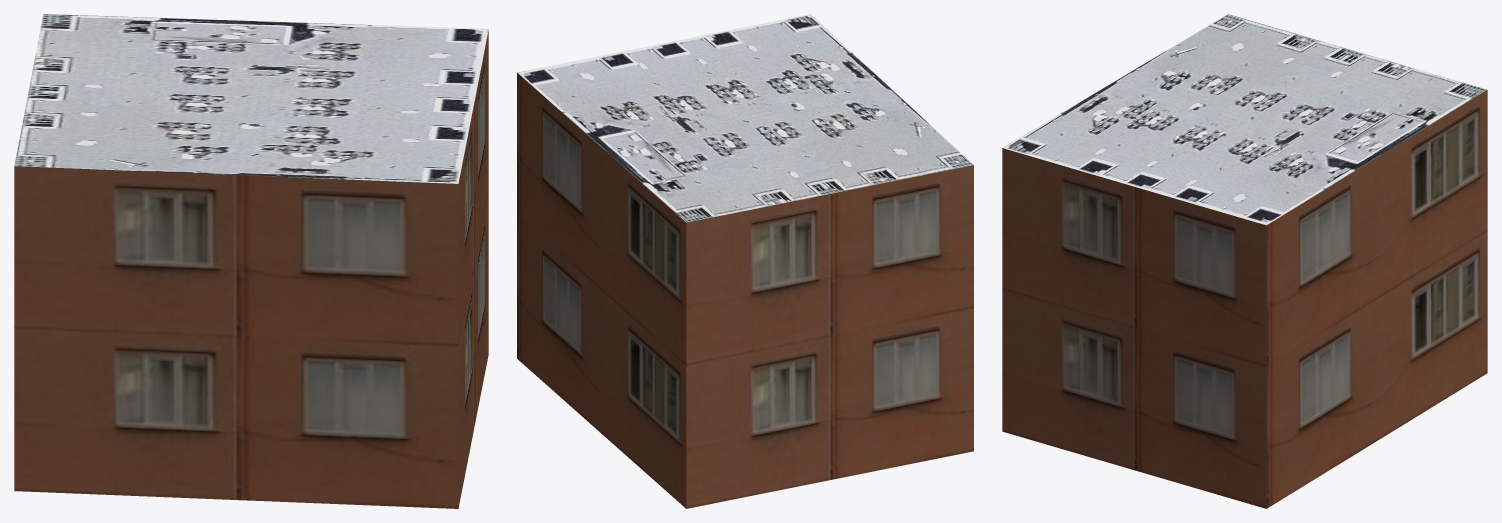
The model's file is ResTex__1866.fbx.
3 renders of one model, left to right at view 1: azimuth 30°, elevation 25°; view 2: azimuth 150°, elevation 25°; view 3: azimuth 270°, elevation 25°, orthographic. The views are drawn at different scales.
Parts seen in each view (by area): view 1: CityEngineMaterial_20_m, CityEngineMaterial_8_m; view 2: CityEngineMaterial_20_m, CityEngineMaterial_8_m; view 3: CityEngineMaterial_20_m, CityEngineMaterial_8_m.
Part boxes in pixels (<box>): CityEngineMaterial_20_m: <box>14,31,488,508</box>; CityEngineMaterial_8_m: <box>14,14,488,183</box>; CityEngineMaterial_20_m: <box>517,73,973,508</box>; CityEngineMaterial_8_m: <box>517,14,973,222</box>; CityEngineMaterial_20_m: <box>1002,90,1487,508</box>; CityEngineMaterial_8_m: <box>1003,14,1486,225</box>.
Bounding box in the file's own units: 9.59 × 6 × 9.3.
Materials: 2 (2 with a texture image).
